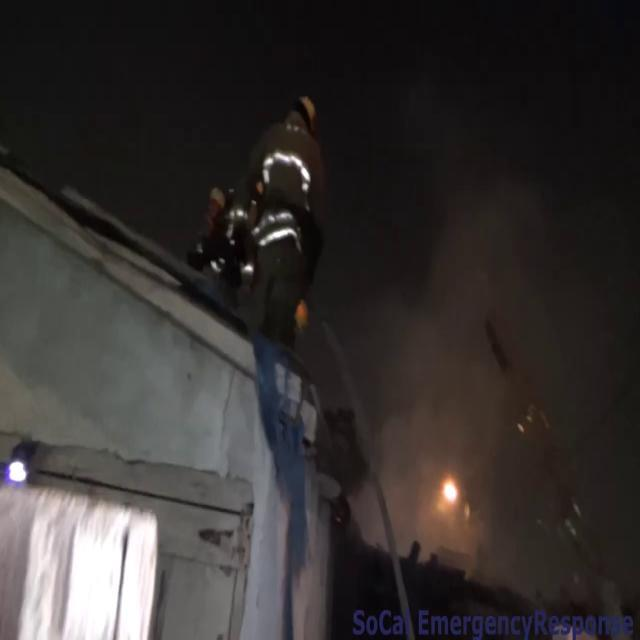Smoke: (358, 84, 634, 506)
